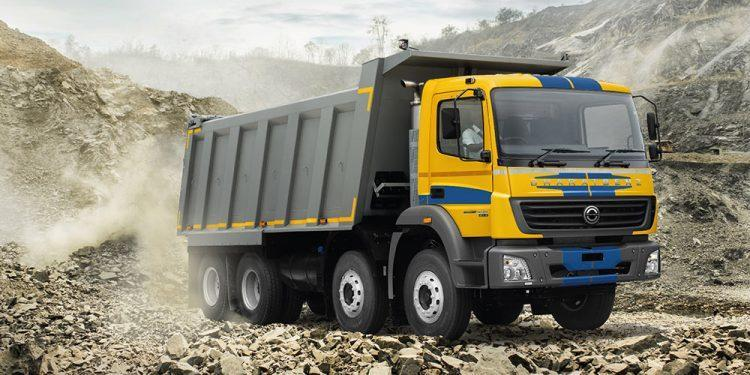truck: (161, 43, 688, 332)
